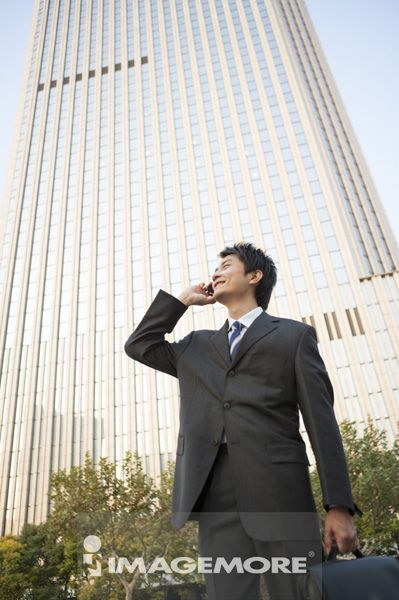talk: (180, 257, 244, 309)
